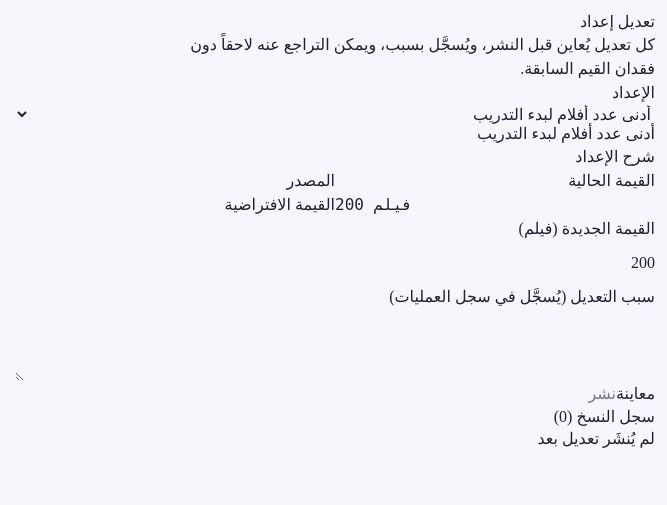
Test: SettingsAdmin › shows the validation error from a preview without publishing
Replace the text in the number field labelled "القيمة الجديدة (فيلم)" with "-5" at (495, 263), box [335,241,655,285]
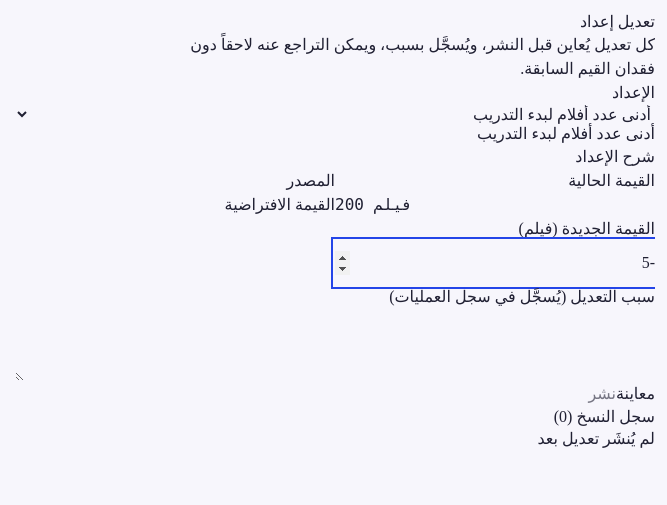
Click the button "معاينة" at (636, 394), box [616,381,655,407]
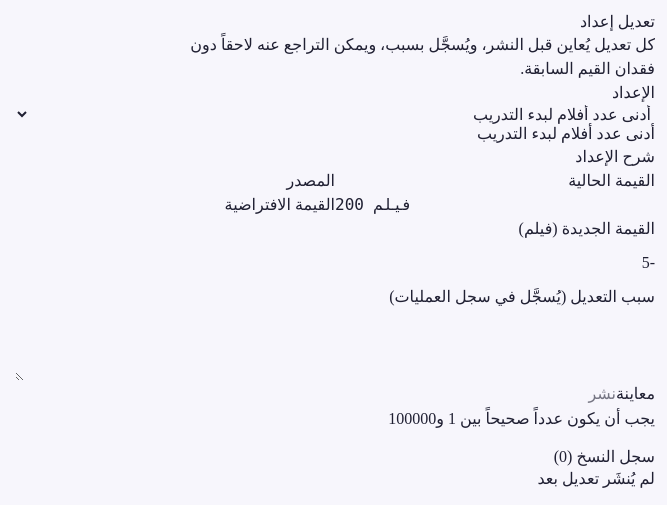
Now the message shows "يجب أن يكون عدداً صحيحاً", box [388,410,655,427]
